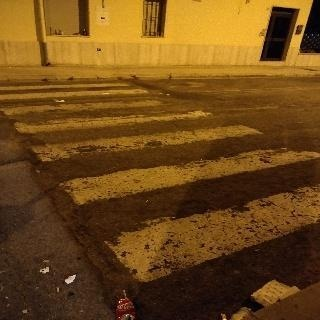road_crosswalk: (7, 98, 319, 268)
